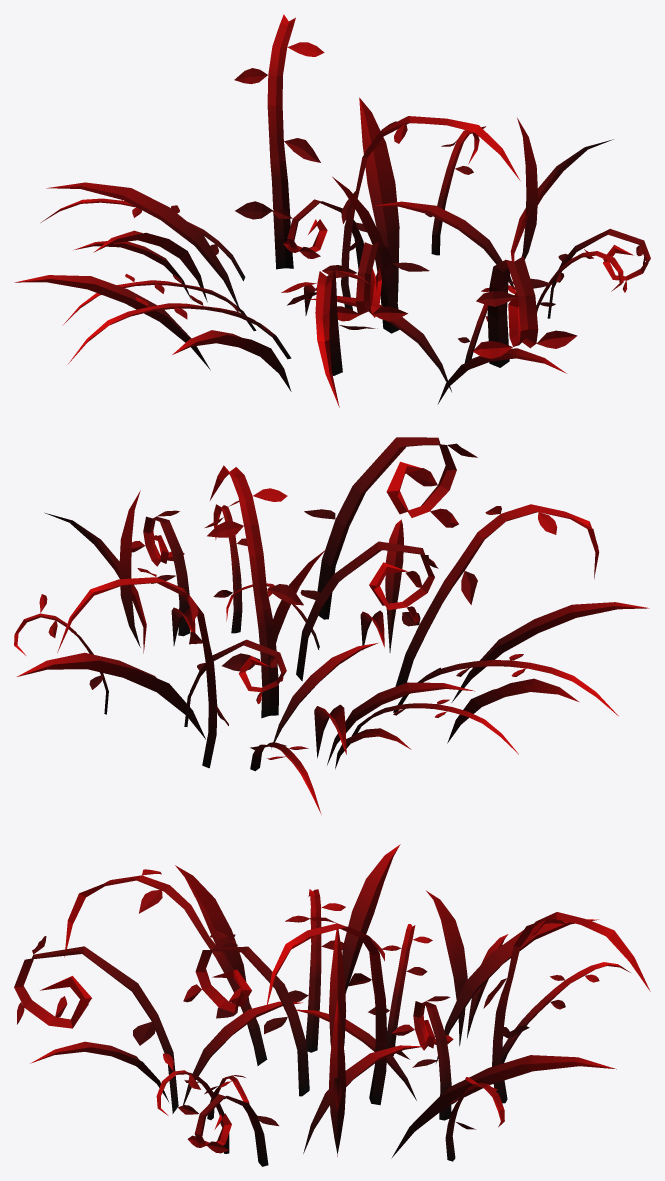
The model's file is grass02-2.fbx.
The picture shows the model from 3 angles, top to bottom: view 1: azimuth 30°, elevation 25°; view 2: azimuth 150°, elevation 25°; view 3: azimuth 270°, elevation 25°; orthographic projection.
Visible parts, largest first — view 1: grass02-5, Plane.001; view 2: grass02-5, Plane.001; view 3: grass02-5, Plane.001.
Boxes of the visible parts, <box> form: grass02-5: <box>41,14,650,407</box>; Plane.001: <box>14,97,613,404</box>; grass02-5: <box>14,437,618,814</box>; Plane.001: <box>17,490,649,769</box>; grass02-5: <box>14,869,650,1166</box>; Plane.001: <box>30,844,616,1158</box>.
Size of the model in its own units: 411 by 161 by 403.
